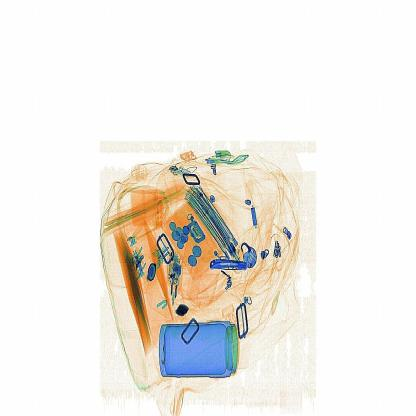knife: (207, 252, 259, 279)
